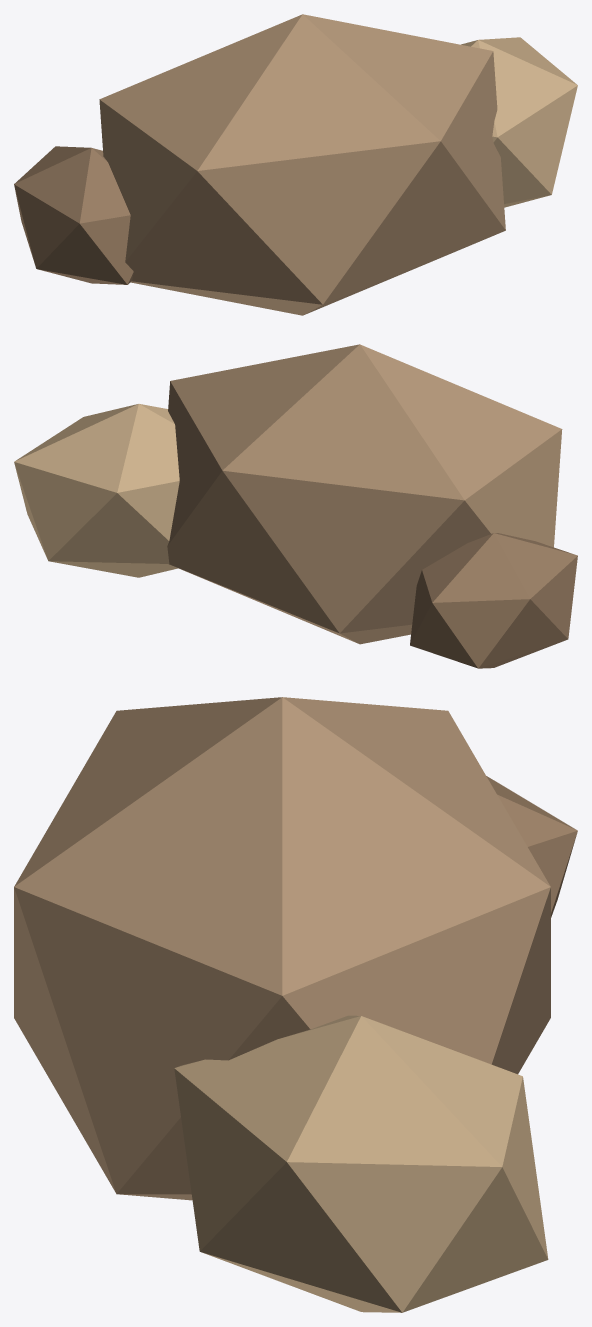
The model's file is limestone.glb.
3 renders of one model, top to bottom at view 1: azimuth 30°, elevation 25°; view 2: azimuth 150°, elevation 25°; view 3: azimuth 270°, elevation 25°, orthographic. The views are drawn at different scales.
Visible parts, largest first — view 1: Limestone boulder, Limestone boulder.002, Limestone boulder.001; view 2: Limestone boulder, Limestone boulder.001, Limestone boulder.002; view 3: Limestone boulder, Limestone boulder.001, Limestone boulder.002.
Boxes of the visible parts, x1,y1,x2,y2 form: Limestone boulder: (99, 14, 505, 315); Limestone boulder.002: (14, 146, 133, 284); Limestone boulder.001: (461, 37, 577, 207); Limestone boulder: (167, 344, 562, 644); Limestone boulder.001: (14, 404, 179, 577); Limestone boulder.002: (410, 533, 577, 668); Limestone boulder: (14, 697, 550, 1200); Limestone boulder.001: (174, 1015, 548, 1312); Limestone boulder.002: (486, 776, 577, 917).
Size of the model in its own units: 1.86 by 1 by 1.
